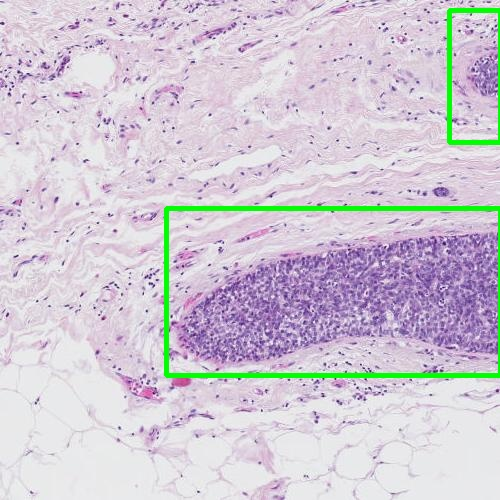DCIS: (166, 208, 500, 375), (449, 10, 500, 142)
